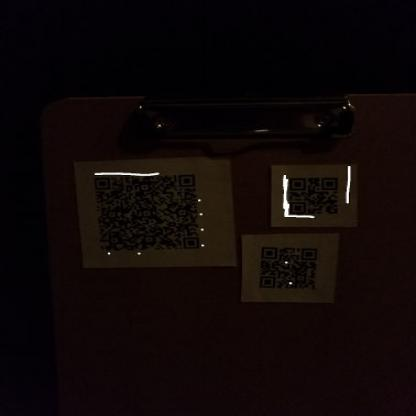qr: (94, 170, 202, 254), (258, 245, 319, 292), (284, 174, 341, 220)
